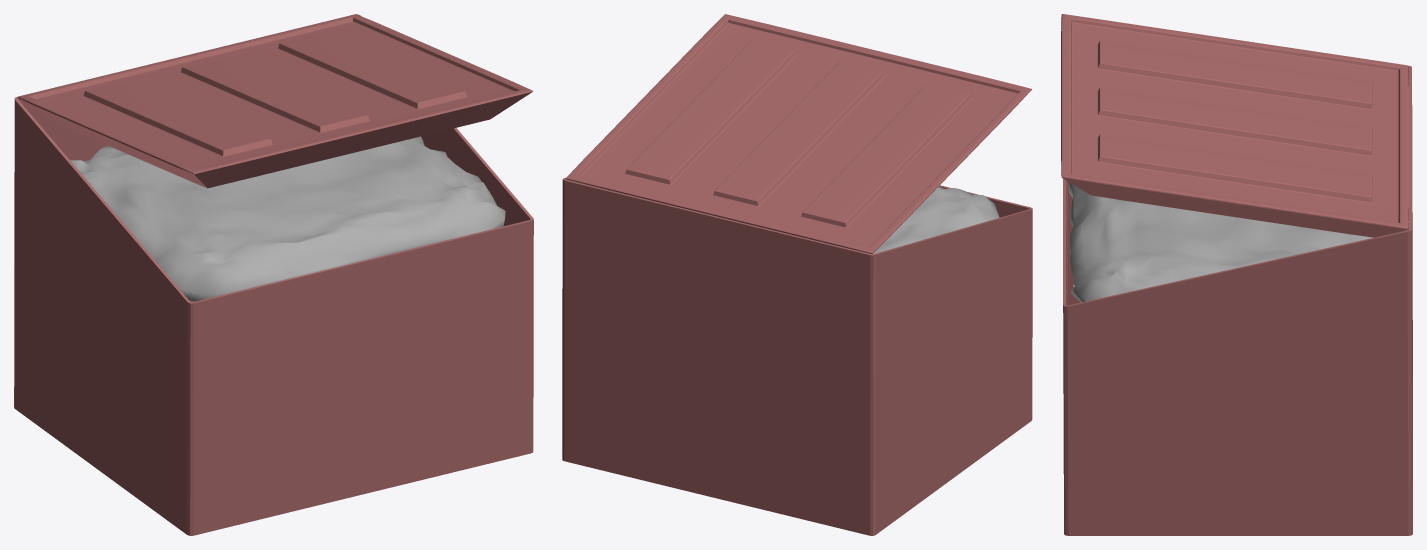
Rendered from P_Basura_Container.fbx.
3 views of the same model, side by side, from view 1: azimuth 30°, elevation 25°; view 2: azimuth 150°, elevation 25°; view 3: azimuth 270°, elevation 25° (orthographic). The views are drawn at different scales.
Parts seen in each view (by area): view 1: polySurface1, Tapa, M_Basura1; view 2: polySurface1, Tapa, M_Basura1; view 3: polySurface1, Tapa, M_Basura1.
Part boxes in pixels (x1,y1,x2,y2): polySurface1: (14,14,533,535); Tapa: (18,14,532,188); M_Basura1: (70,136,505,301); polySurface1: (562,178,1032,535); Tapa: (565,14,1031,254); M_Basura1: (873,186,999,254); polySurface1: (1063,66,1412,535); Tapa: (1061,14,1408,237); M_Basura1: (1068,182,1408,302).
Bounding box in the file's own units: 823 × 829 × 738.
